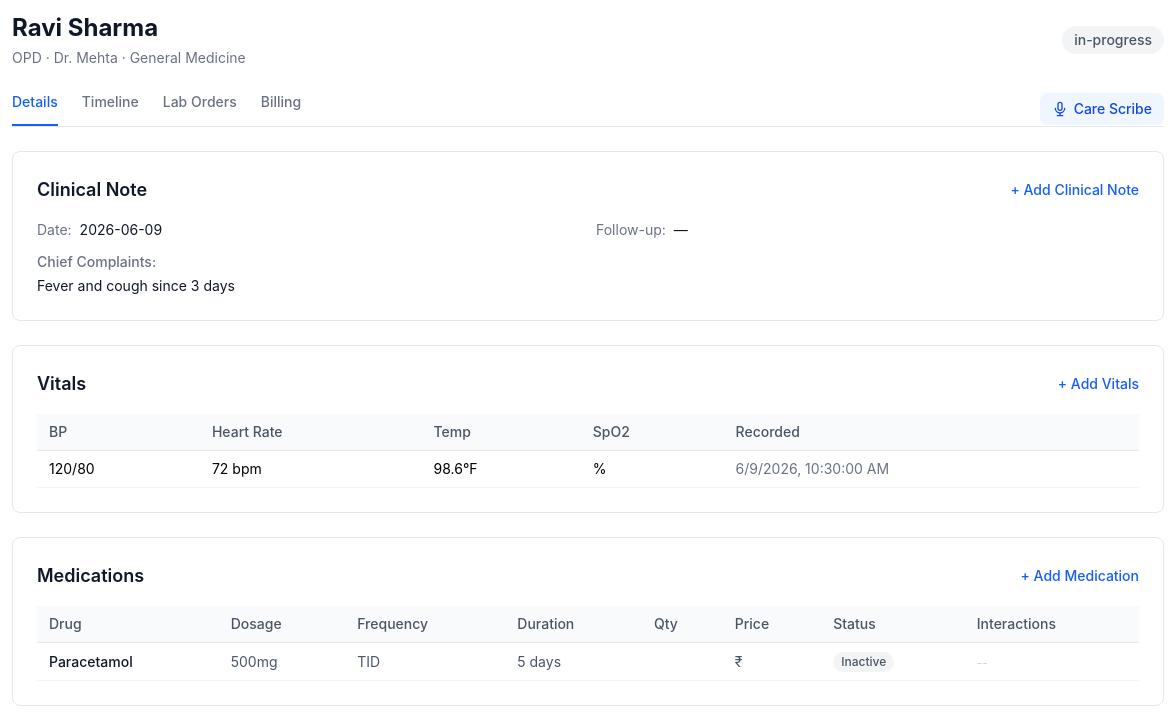
Test: EncounterDetail › shows Add Vitals expandable form
Expected: the heading "Vitals" is shown, [37,370,86,398]
Step 1. Click the button "+ Add Vitals" → click(1098, 384), box [1058,374,1139,394]
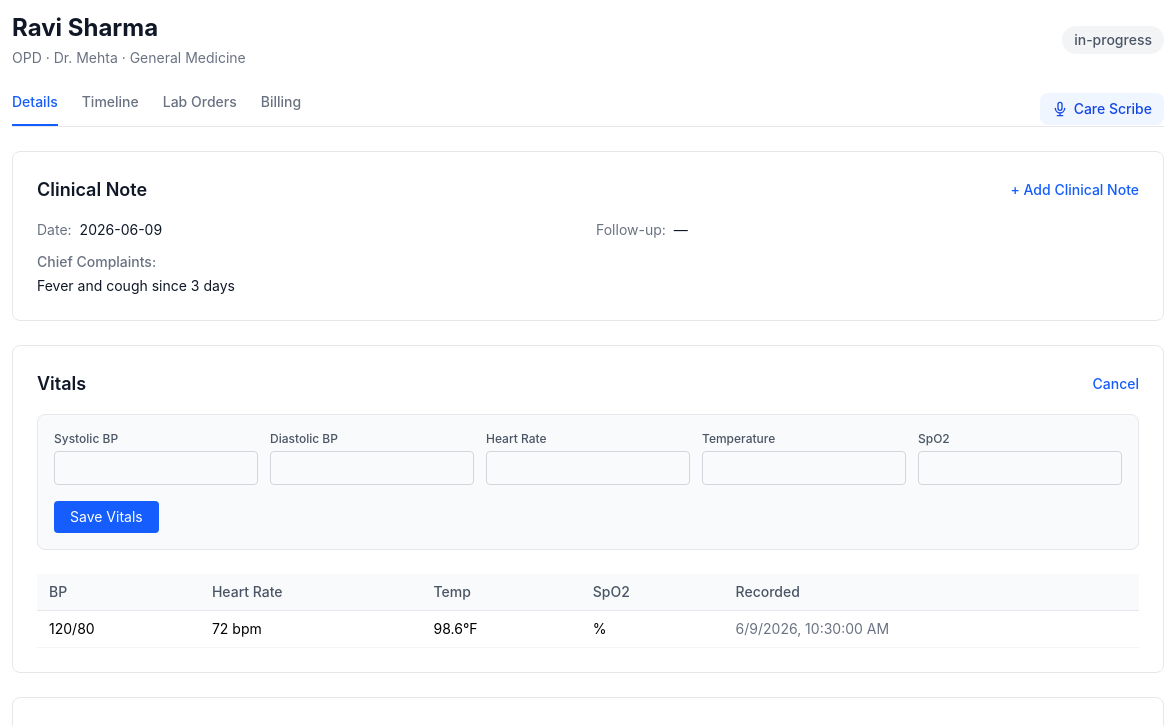
Result: the number field labelled "Systolic BP" is shown at [54,451,258,485]
Result: the number field labelled "Diastolic BP" is shown at [270,451,474,485]
Result: the number field labelled "Heart Rate" is shown at [486,451,690,485]
